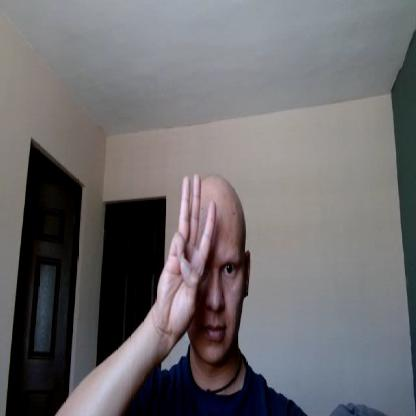W: (155, 173, 216, 330)
